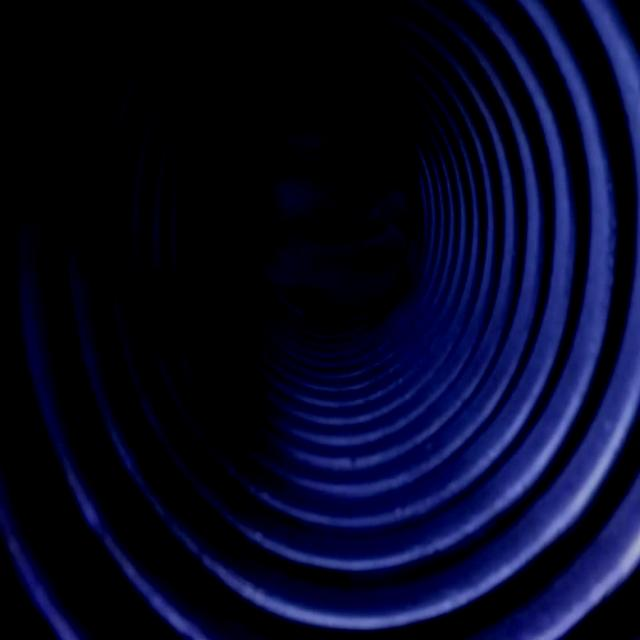block: (251, 108, 416, 322)
